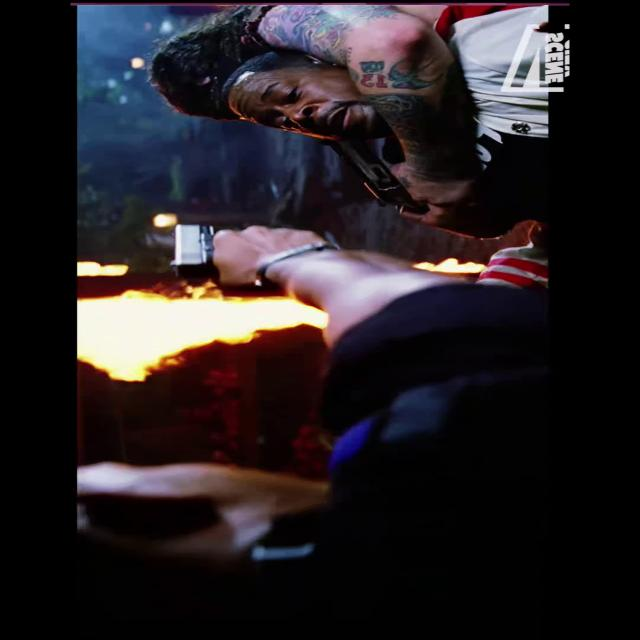weapons: (136, 214, 332, 286)
